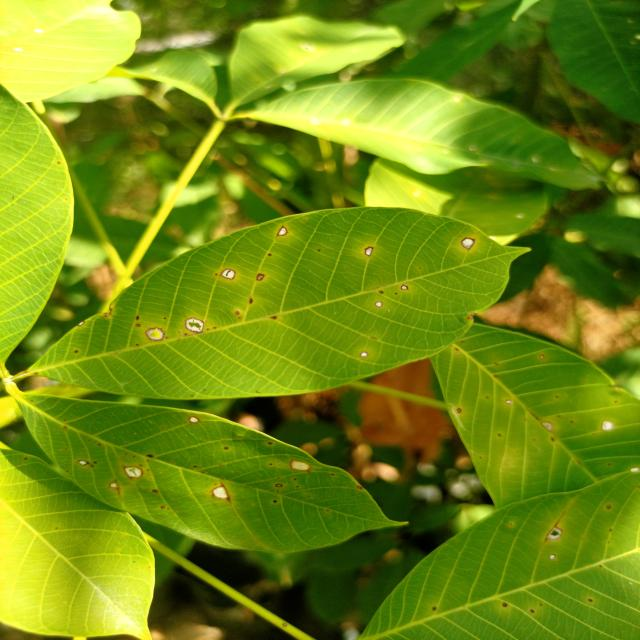Colletotrichum: (185, 317, 205, 333), (145, 327, 165, 341), (290, 460, 311, 472), (124, 466, 144, 478), (211, 486, 229, 499), (220, 268, 237, 280), (460, 237, 475, 250), (277, 226, 288, 236), (364, 246, 374, 256), (189, 416, 199, 424), (256, 273, 265, 281), (78, 460, 88, 466), (360, 352, 369, 357), (374, 302, 382, 307), (275, 483, 283, 488), (401, 285, 408, 290), (146, 454, 154, 458), (223, 446, 229, 451), (456, 408, 462, 413), (505, 400, 512, 404), (606, 504, 611, 509), (540, 354, 544, 360), (502, 602, 508, 606), (588, 598, 593, 602), (378, 291, 384, 294), (135, 324, 141, 327), (357, 486, 363, 489), (272, 500, 278, 503), (530, 609, 534, 613), (268, 442, 272, 445), (235, 311, 239, 314), (136, 316, 139, 320), (76, 350, 79, 353), (268, 254, 272, 256), (482, 420, 484, 421), (404, 298, 404, 300)
